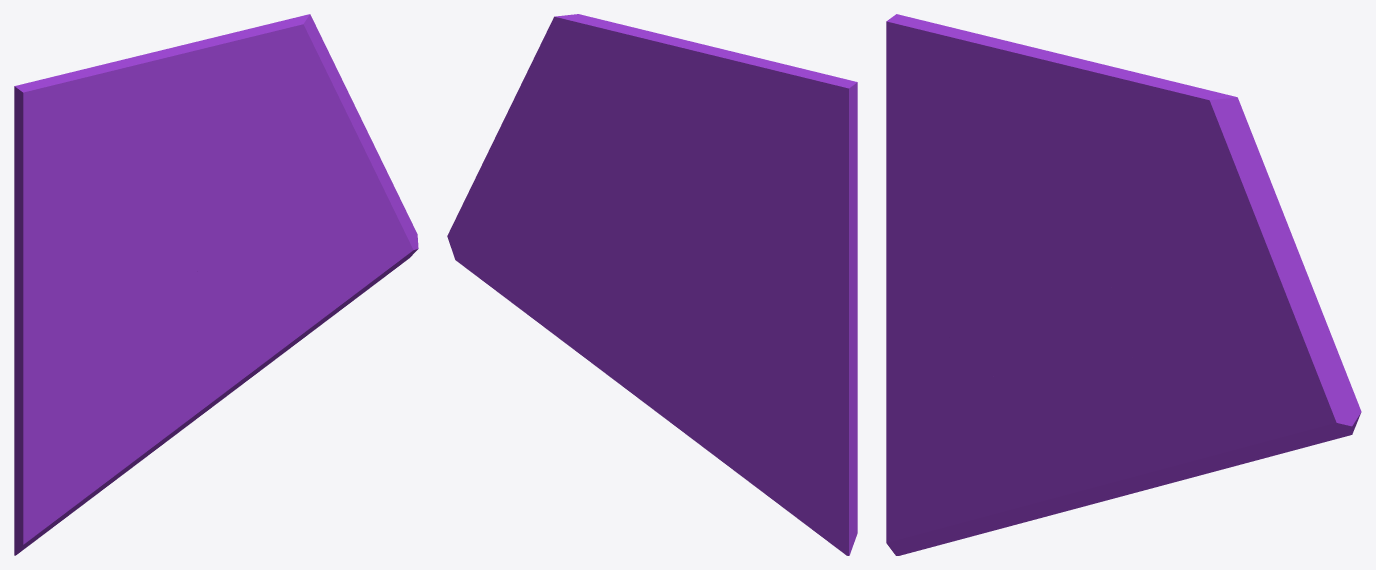
The model's file is Window_5_8_chunks.fbx.
The picture shows the model from 3 angles, left to right: view 1: azimuth 30°, elevation 25°; view 2: azimuth 150°, elevation 25°; view 3: azimuth 330°, elevation 25°; orthographic projection. The views are drawn at different scales.
Parts seen in each view (by area): view 1: Window_5_8_1, Window_5_8_9, Window_5_8_2, Window_5_8_10, Window_5_8_7, Window_5_8_12, Window_5_8_3, Window_5_8_11, Window_5_8_4, Window_5_8_6, Window_5_8_8, Window_5_8_0 (+1 smaller); view 2: Window_5_8_9, Window_5_8_1, Window_5_8_2, Window_5_8_10, Window_5_8_7, Window_5_8_3, Window_5_8_11, Window_5_8_5, Window_5_8_4, Window_5_8_6, Window_5_8_12, Window_5_8_8; view 3: Window_5_8_9, Window_5_8_1, Window_5_8_10, Window_5_8_2, Window_5_8_7, Window_5_8_12, Window_5_8_3, Window_5_8_6, Window_5_8_11, Window_5_8_8, Window_5_8_4, Window_5_8_0 (+1 smaller).
Boxes of the visible parts, left/top/right/bottom form: Window_5_8_1: left=14, top=74, right=179, bottom=338; Window_5_8_9: left=64, top=14, right=339, bottom=178; Window_5_8_2: left=14, top=336, right=150, bottom=555; Window_5_8_10: left=260, top=74, right=415, bottom=268; Window_5_8_7: left=87, top=297, right=323, bottom=501; Window_5_8_12: left=111, top=139, right=262, bottom=250; Window_5_8_3: left=102, top=249, right=192, bottom=397; Window_5_8_11: left=181, top=201, right=289, bottom=280; Window_5_8_4: left=14, top=249, right=77, bottom=404; Window_5_8_6: left=308, top=231, right=418, bottom=327; Window_5_8_8: left=187, top=260, right=327, bottom=322; Window_5_8_0: left=192, top=270, right=238, bottom=313; Window_5_8_9: left=525, top=14, right=806, bottom=184; Window_5_8_1: left=701, top=70, right=857, bottom=321; Window_5_8_2: left=730, top=343, right=857, bottom=555; Window_5_8_10: left=449, top=76, right=607, bottom=261; Window_5_8_7: left=547, top=309, right=778, bottom=503; Window_5_8_3: left=669, top=234, right=781, bottom=406; Window_5_8_11: left=573, top=180, right=708, bottom=284; Window_5_8_5: left=562, top=282, right=723, bottom=393; Window_5_8_4: left=779, top=251, right=857, bottom=406; Window_5_8_6: left=447, top=232, right=564, bottom=329; Window_5_8_12: left=651, top=159, right=747, bottom=220; Window_5_8_8: left=551, top=256, right=674, bottom=294; Window_5_8_9: left=945, top=28, right=1270, bottom=254; Window_5_8_1: left=886, top=14, right=1066, bottom=346; Window_5_8_10: left=1160, top=182, right=1359, bottom=409; Window_5_8_2: left=886, top=337, right=1032, bottom=555; Window_5_8_7: left=978, top=402, right=1244, bottom=534; Window_5_8_12: left=988, top=125, right=1162, bottom=292; Window_5_8_3: left=977, top=290, right=1081, bottom=444; Window_5_8_6: left=1215, top=386, right=1361, bottom=463; Window_5_8_11: left=1068, top=280, right=1193, bottom=374; Window_5_8_8: left=1076, top=360, right=1237, bottom=417; Window_5_8_4: left=886, top=241, right=949, bottom=365; Window_5_8_0: left=1081, top=322, right=1134, bottom=371.
Bounding box in the file's own units: 720 × 801 × 27.2.
